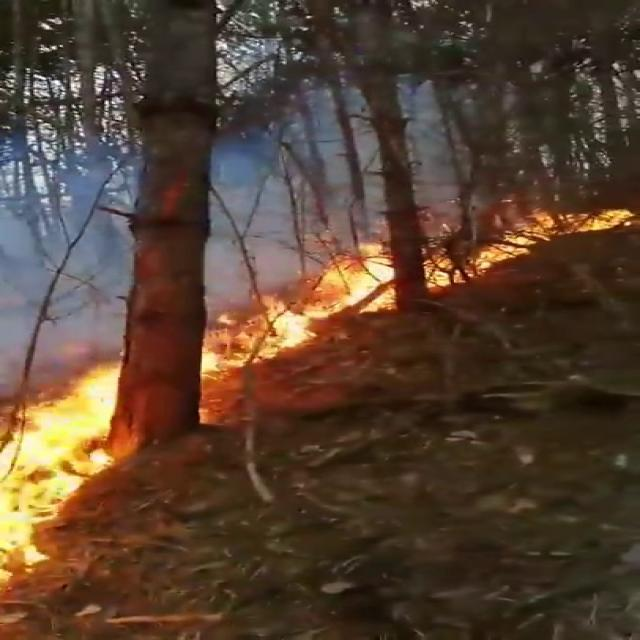Fire: (0, 354, 134, 586), (201, 233, 401, 384), (464, 180, 638, 278)
Smoke: (0, 134, 381, 302)
